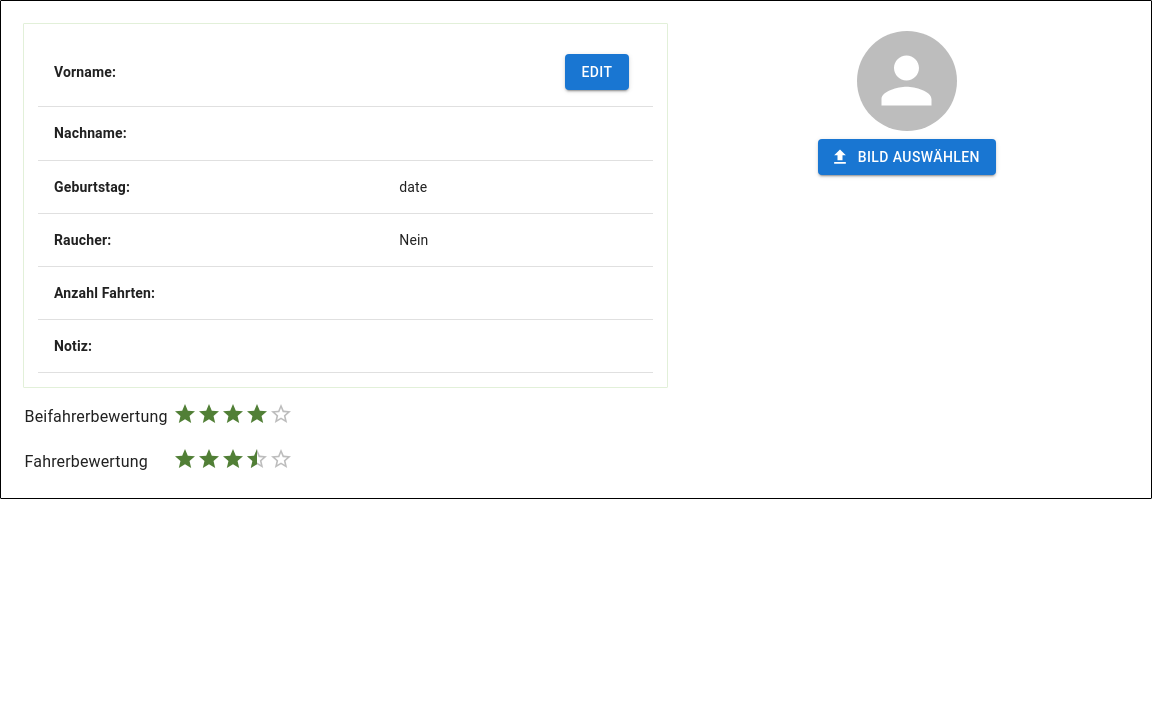
Test: ProfileInformation › toggles editing state when Edit button is clicked
Click the button "Edit" at (597, 72), box [565,54,629,90]
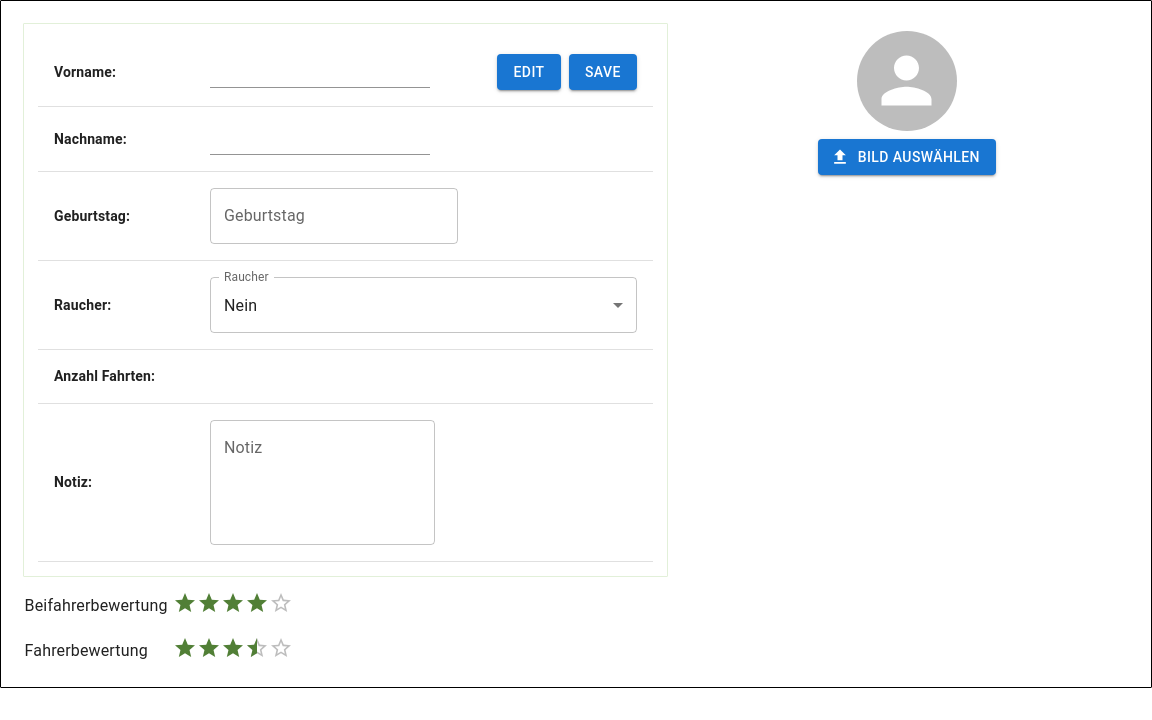
Now the field labelled "Geburtstag" is shown, box [210,188,444,244]
